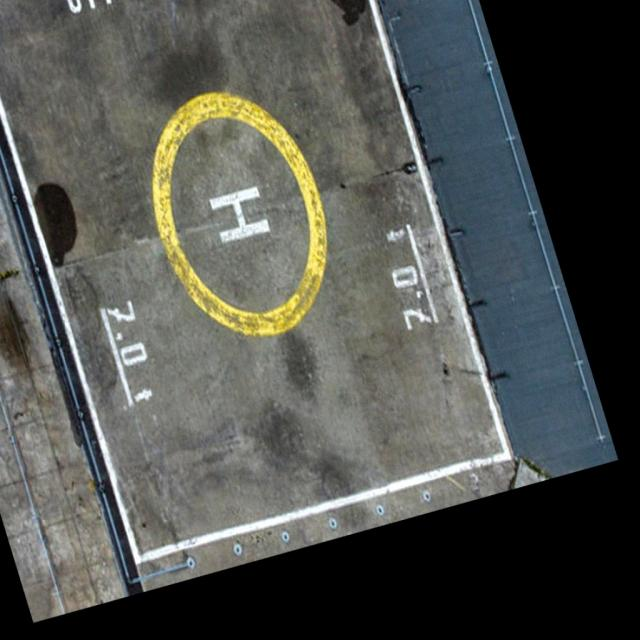helipad: (149, 84, 330, 338)
